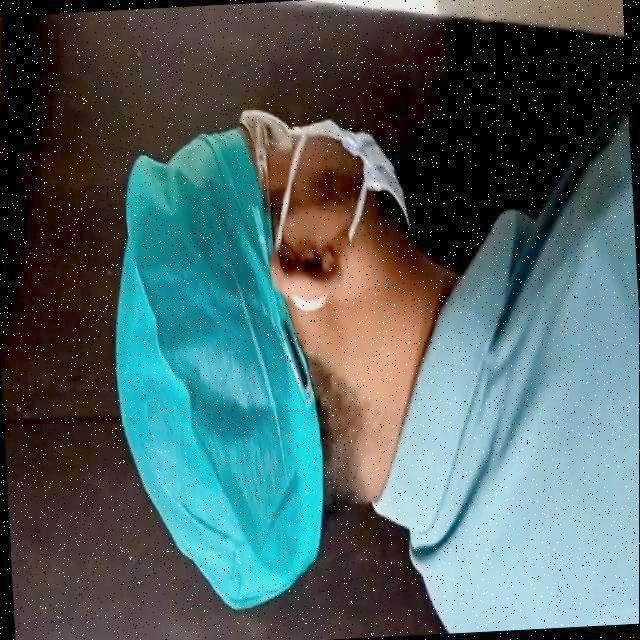gloves: (88, 131, 314, 609)
